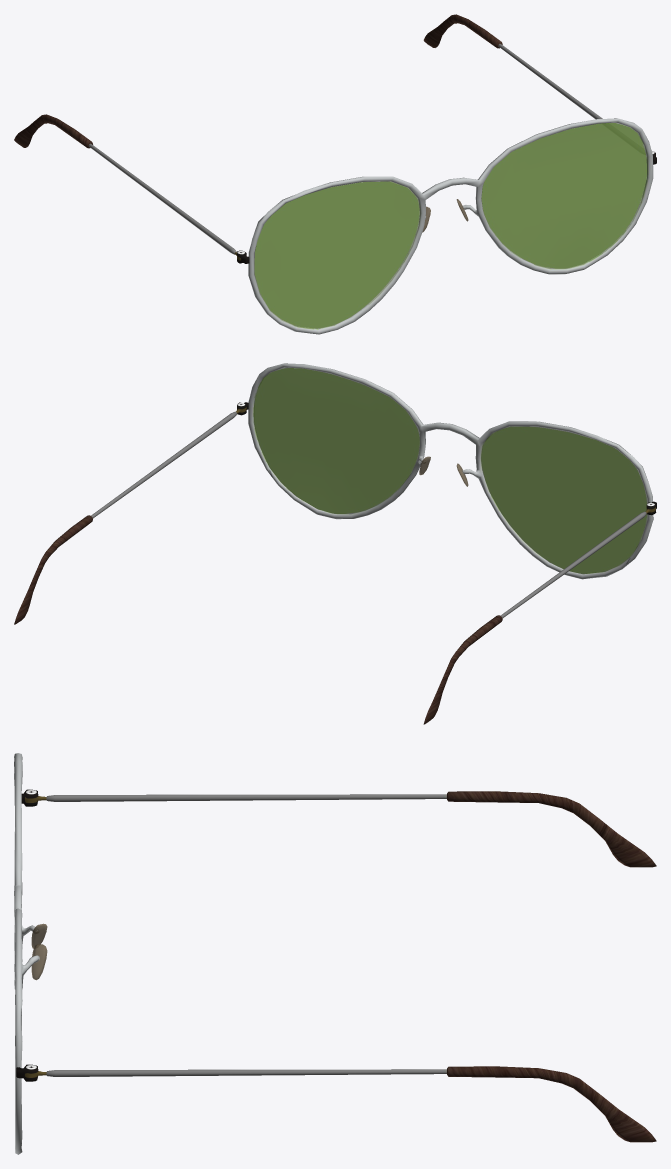
Rendered from glasses (12).glb.
3 renders of one model, top to bottom at view 1: azimuth 30°, elevation 25°; view 2: azimuth 150°, elevation 25°; view 3: azimuth 270°, elevation 25°, orthographic. The views are drawn at different scales.
Parts seen in each view (by area): view 1: Cylinder.011; view 2: Cylinder.011; view 3: Cylinder.011.
Part boxes in pixels (left/top/right/bottom): Cylinder.011: left=14, top=14, right=656, bottom=334; Cylinder.011: left=14, top=363, right=656, bottom=724; Cylinder.011: left=14, top=753, right=656, bottom=1154.
Size of the model in its own units: 448 by 153 by 435.
1 material, 1 textured.
